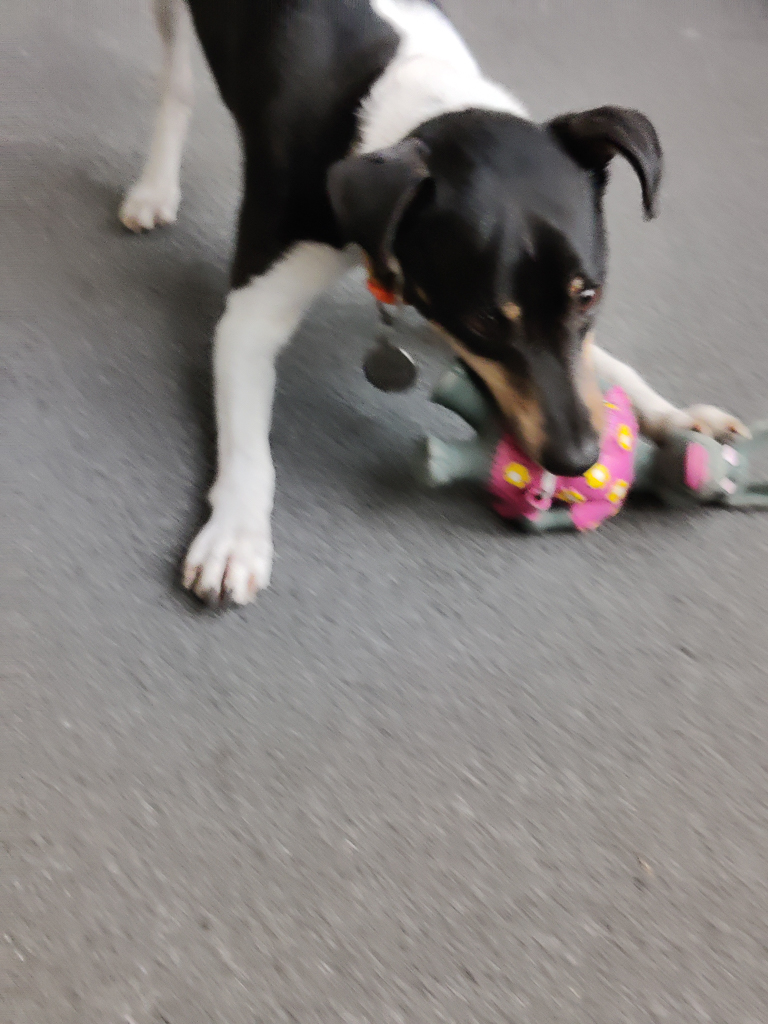Dog: (89, 0, 768, 637)
Humanoid: (380, 336, 768, 558)
